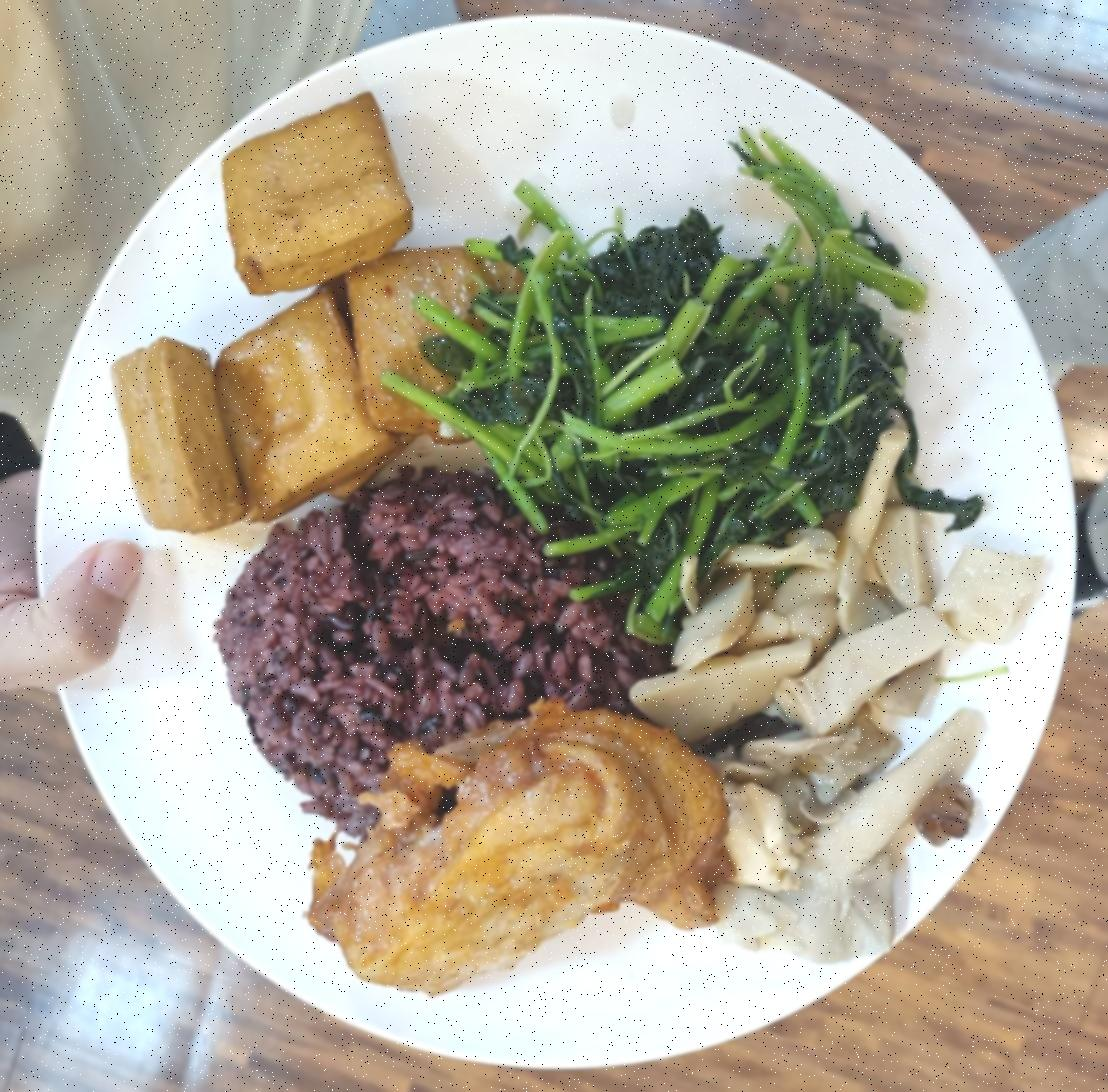grilled chicken leg steak: (333, 712, 718, 1006)
plate: (20, 33, 1080, 1064)
purple rice: (220, 503, 636, 768)
side dish: (112, 83, 516, 533), (486, 203, 910, 580), (664, 521, 998, 954)
